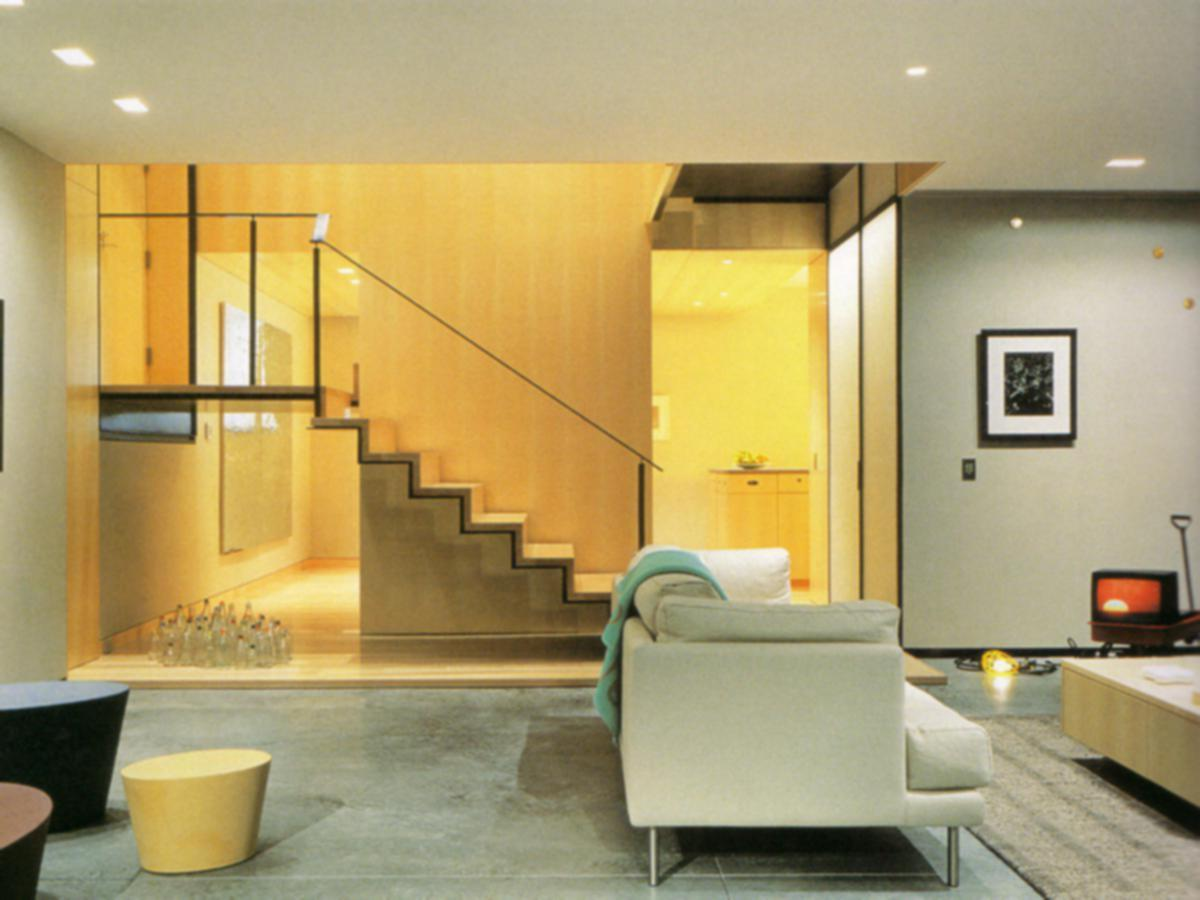Escaleras: (327, 241, 627, 627)
